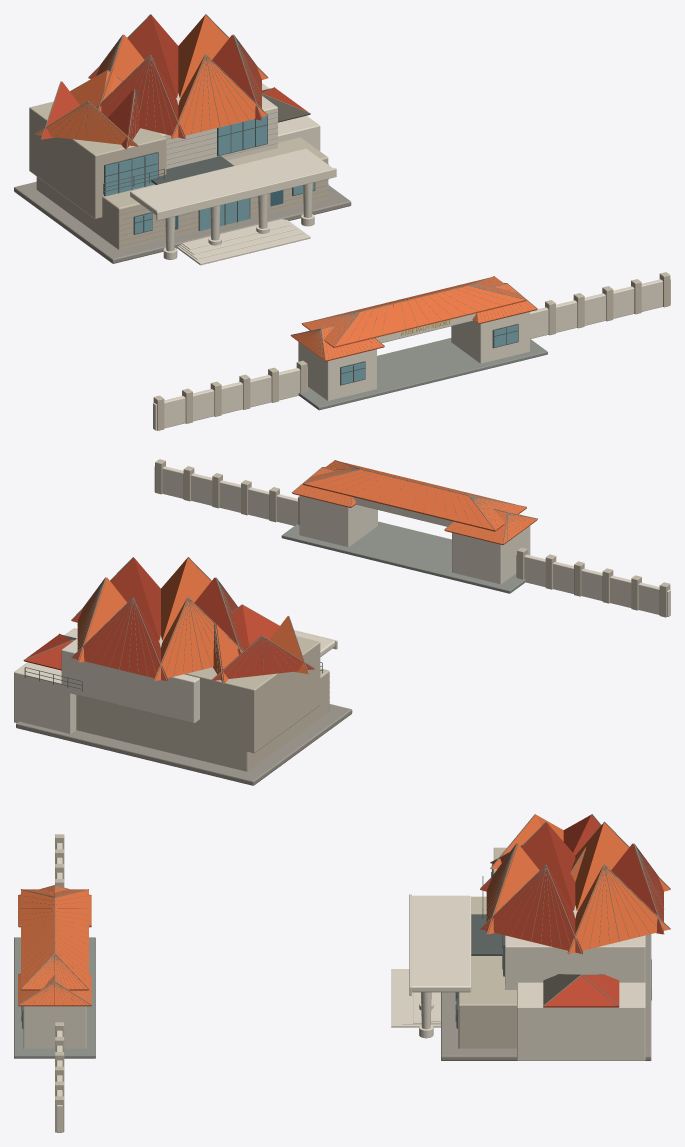
Rendered from resort-architecture.glb.
3 renders of one model, top to bottom at view 1: azimuth 30°, elevation 25°; view 2: azimuth 150°, elevation 25°; view 3: azimuth 270°, elevation 25°, orthographic. The views are drawn at different scales.
Visible parts, largest first — view 1: Clubhouse_roof_orange_batch, Clubhouse_stone_light_batch, Clubhouse_stone_batch, Arrival_Gate_stone_light_batch, Arrival_Gate_roof_orange_batch, Clubhouse_stone_dark_batch, Gate_plinth, Clubhouse_glass_light_batch, Clubhouse_roof_seam_batch, Arrival_Gate_stone_batch, Clubhouse_metal_batch, Arrival_Gate_roof_seam_batch (+2 smaller); view 2: Clubhouse_roof_orange_batch, Clubhouse_stone_batch, Arrival_Gate_stone_light_batch, Clubhouse_stone_light_batch, Arrival_Gate_roof_orange_batch, Gate_plinth, Clubhouse_stone_dark_batch, Clubhouse_roof_seam_batch, Arrival_Gate_stone_batch, Arrival_Gate_roof_seam_batch, East_service_roof; view 3: Clubhouse_stone_light_batch, Clubhouse_roof_orange_batch, Arrival_Gate_roof_orange_batch, Clubhouse_stone_batch, Clubhouse_roof_seam_batch, Arrival_Gate_stone_light_batch, Clubhouse_stone_dark_batch, East_service_roof, Gate_plinth, Arrival_Gate_roof_seam_batch, Clubhouse_metal_batch, Arrival_Gate_stone_batch.
Boxes of the visible parts, bbox=[...] form: Clubhouse_roof_orange_batch: bbox=[35, 15, 267, 148]; Clubhouse_stone_light_batch: bbox=[130, 83, 336, 265]; Clubhouse_stone_batch: bbox=[29, 101, 328, 249]; Arrival_Gate_stone_light_batch: bbox=[153, 279, 670, 430]; Arrival_Gate_roof_orange_batch: bbox=[291, 276, 537, 361]; Clubhouse_stone_dark_batch: bbox=[14, 112, 351, 263]; Gate_plinth: bbox=[298, 338, 547, 410]; Clubhouse_glass_light_batch: bbox=[105, 116, 314, 233]; Clubhouse_roof_seam_batch: bbox=[34, 14, 310, 149]; Arrival_Gate_stone_batch: bbox=[153, 272, 670, 430]; Clubhouse_metal_batch: bbox=[103, 115, 315, 234]; Arrival_Gate_roof_seam_batch: bbox=[290, 276, 537, 360]; Clubhouse_roof_orange_batch: bbox=[71, 557, 314, 683]; Clubhouse_stone_batch: bbox=[76, 636, 329, 771]; Arrival_Gate_stone_light_batch: bbox=[154, 466, 670, 616]; Clubhouse_stone_light_batch: bbox=[14, 628, 337, 733]; Arrival_Gate_roof_orange_batch: bbox=[292, 460, 537, 544]; Gate_plinth: bbox=[281, 521, 525, 593]; Clubhouse_stone_dark_batch: bbox=[16, 704, 352, 785]; Clubhouse_roof_seam_batch: bbox=[23, 557, 314, 683]; Arrival_Gate_stone_batch: bbox=[155, 459, 670, 617]; Arrival_Gate_roof_seam_batch: bbox=[292, 460, 537, 544]; East_service_roof: bbox=[24, 634, 76, 670]; Clubhouse_stone_light_batch: bbox=[391, 894, 645, 1060]; Clubhouse_roof_orange_batch: bbox=[480, 814, 670, 953]; Arrival_Gate_roof_orange_batch: bbox=[18, 885, 91, 1006]; Clubhouse_stone_batch: bbox=[458, 847, 516, 1048]; Clubhouse_roof_seam_batch: bbox=[480, 814, 670, 1006]; Arrival_Gate_stone_light_batch: bbox=[23, 843, 86, 1132]; Clubhouse_stone_dark_batch: bbox=[441, 934, 651, 1060]; East_service_roof: bbox=[543, 974, 619, 1007]; Gate_plinth: bbox=[14, 937, 95, 1058]; Arrival_Gate_roof_seam_batch: bbox=[18, 885, 91, 1005]; Clubhouse_metal_batch: bbox=[455, 864, 651, 1028]; Arrival_Gate_stone_batch: bbox=[55, 834, 64, 1132].
Size of the model in its own units: 54 by 15.24 by 56.17.
